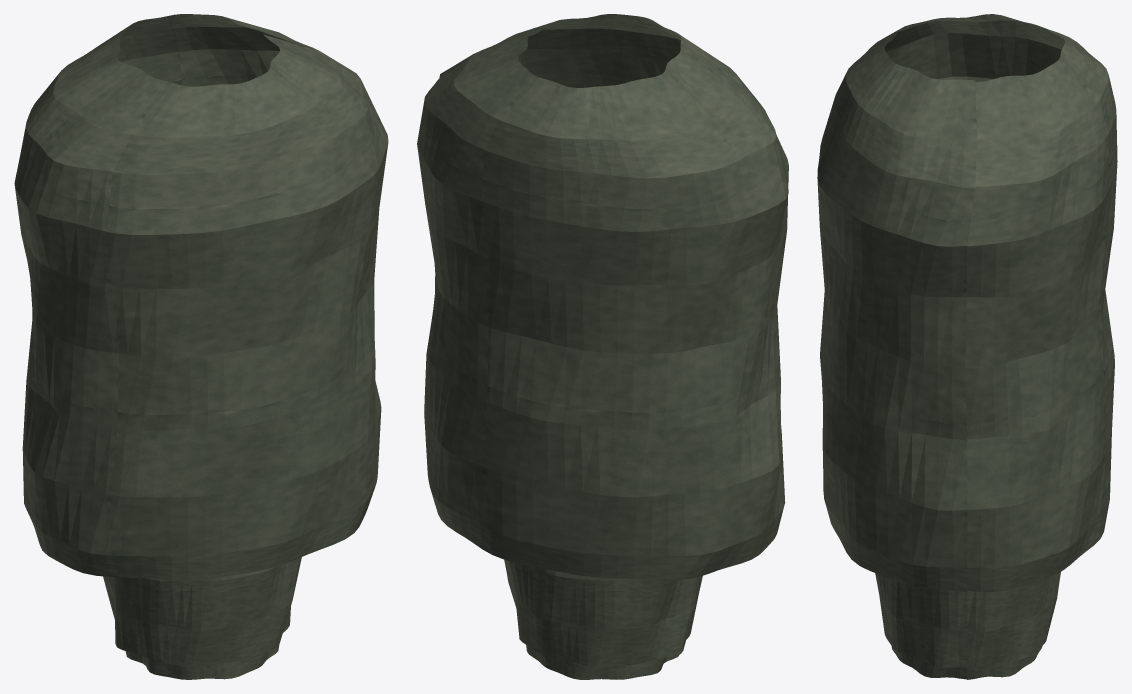
File: afterday_survivor_suit_reference_v160.glb
3 views of the same model, side by side, from view 1: azimuth 30°, elevation 25°; view 2: azimuth 150°, elevation 25°; view 3: azimuth 270°, elevation 25° (orthographic).
Visible parts, largest first — view 1: Organic Jacket Shell, Organic Thigh Trouser, Organic Arm Sleeve; view 2: Organic Jacket Shell, Organic Thigh Trouser, Organic Arm Sleeve; view 3: Organic Jacket Shell, Organic Thigh Trouser, Organic Arm Sleeve.
Part boxes in pixels (x1,y1,x2,y2): Organic Jacket Shell: (14, 14, 388, 580); Organic Thigh Trouser: (103, 557, 301, 667); Organic Arm Sleeve: (125, 644, 279, 679); Organic Jacket Shell: (417, 14, 788, 580); Organic Thigh Trouser: (504, 560, 702, 666); Organic Arm Sleeve: (526, 645, 679, 679); Organic Jacket Shell: (817, 14, 1117, 592); Organic Thigh Trouser: (875, 572, 1060, 668); Organic Arm Sleeve: (891, 439, 1042, 679).
Size of the model in its own units: 0.9971 by 1.64 by 0.7423.
Materials: 1 (1 with a texture image).
